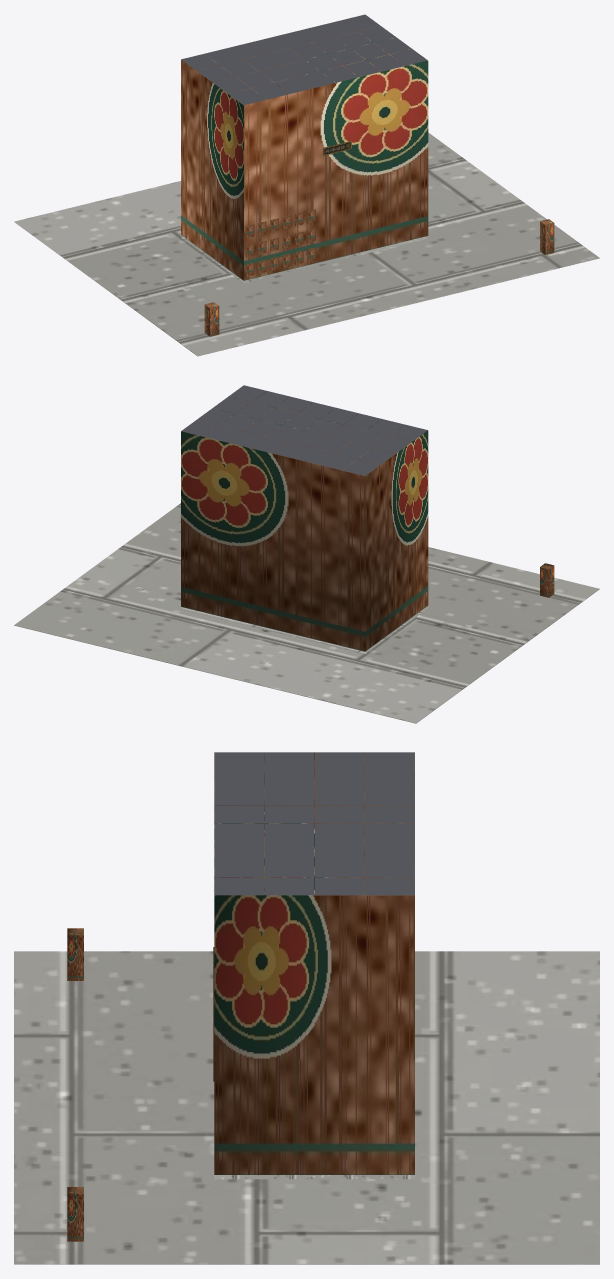
3 views of the same model, one above another, from view 1: azimuth 30°, elevation 25°; view 2: azimuth 150°, elevation 25°; view 3: azimuth 270°, elevation 25° (orthographic). The views are drawn at different scales.
Parts seen in each view (by area): view 1: 11680_01_06239_030_01_L2__base, 11680_01_06239_030_02_L2__body, 11680_01_06239_030_03_L2__roof, 11680_01_06239_030_05_L2__openings, 11680_01_06239_030_06_L2__green; view 2: 11680_01_06239_030_01_L2__base, 11680_01_06239_030_02_L2__body, 11680_01_06239_030_03_L2__roof, 11680_01_06239_030_06_L2__green; view 3: 11680_01_06239_030_01_L2__base, 11680_01_06239_030_02_L2__body, 11680_01_06239_030_03_L2__roof, 11680_01_06239_030_06_L2__green.
Boxes of the visible parts, <box> form: 11680_01_06239_030_01_L2__base: <box>14,132,599,356</box>; 11680_01_06239_030_02_L2__body: <box>181,20,428,280</box>; 11680_01_06239_030_03_L2__roof: <box>181,14,427,105</box>; 11680_01_06239_030_05_L2__openings: <box>245,209,315,276</box>; 11680_01_06239_030_06_L2__green: <box>204,219,554,336</box>; 11680_01_06239_030_01_L2__base: <box>14,503,599,723</box>; 11680_01_06239_030_02_L2__body: <box>181,391,428,651</box>; 11680_01_06239_030_03_L2__roof: <box>181,385,427,475</box>; 11680_01_06239_030_06_L2__green: <box>540,563,554,597</box>; 11680_01_06239_030_01_L2__base: <box>14,951,599,1264</box>; 11680_01_06239_030_02_L2__body: <box>214,752,414,1174</box>; 11680_01_06239_030_03_L2__roof: <box>214,752,414,895</box>; 11680_01_06239_030_06_L2__green: <box>67,928,83,1241</box>.
Bounding box in the file's own units: 96 × 40.72 × 76.
Materials: 5 (5 with a texture image).
